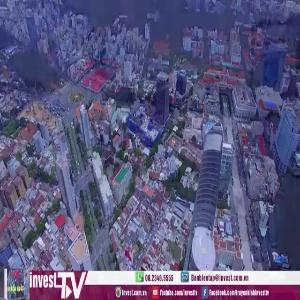drone: (269, 27, 296, 54)
